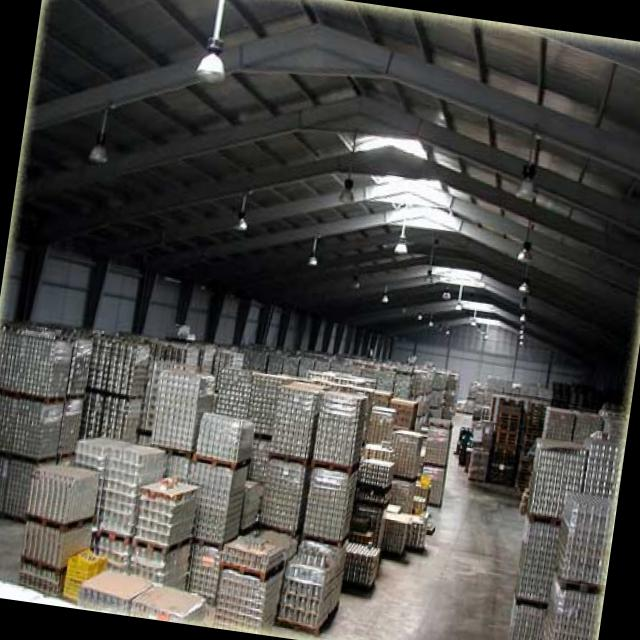ceiling beam: (13, 0, 640, 387)
floor -X: (0, 390, 625, 640)
lamp crop: (197, 0, 226, 81)
merchandise: (507, 434, 625, 640), (0, 319, 96, 519), (351, 394, 437, 556), (543, 491, 614, 640), (227, 342, 390, 393), (458, 396, 546, 487), (80, 333, 151, 442), (389, 360, 462, 419), (541, 404, 630, 447), (465, 375, 552, 417), (423, 404, 454, 505), (550, 379, 625, 414), (342, 541, 382, 593), (390, 394, 426, 433)
wall clock: (0, 244, 394, 445), (386, 325, 632, 438)
